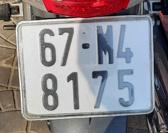1: (66, 69, 83, 112)
4: (115, 23, 134, 64)
5: (116, 69, 137, 107)
6: (38, 27, 57, 68)
7: (90, 69, 110, 110), (57, 27, 75, 66)
8: (37, 71, 62, 111)
M: (95, 24, 116, 65)
